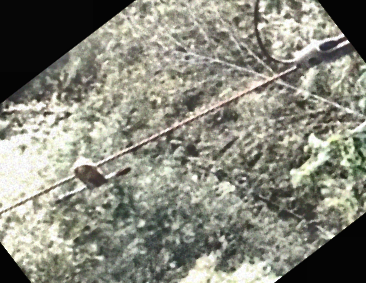damper_defect: (51, 159, 135, 206)
